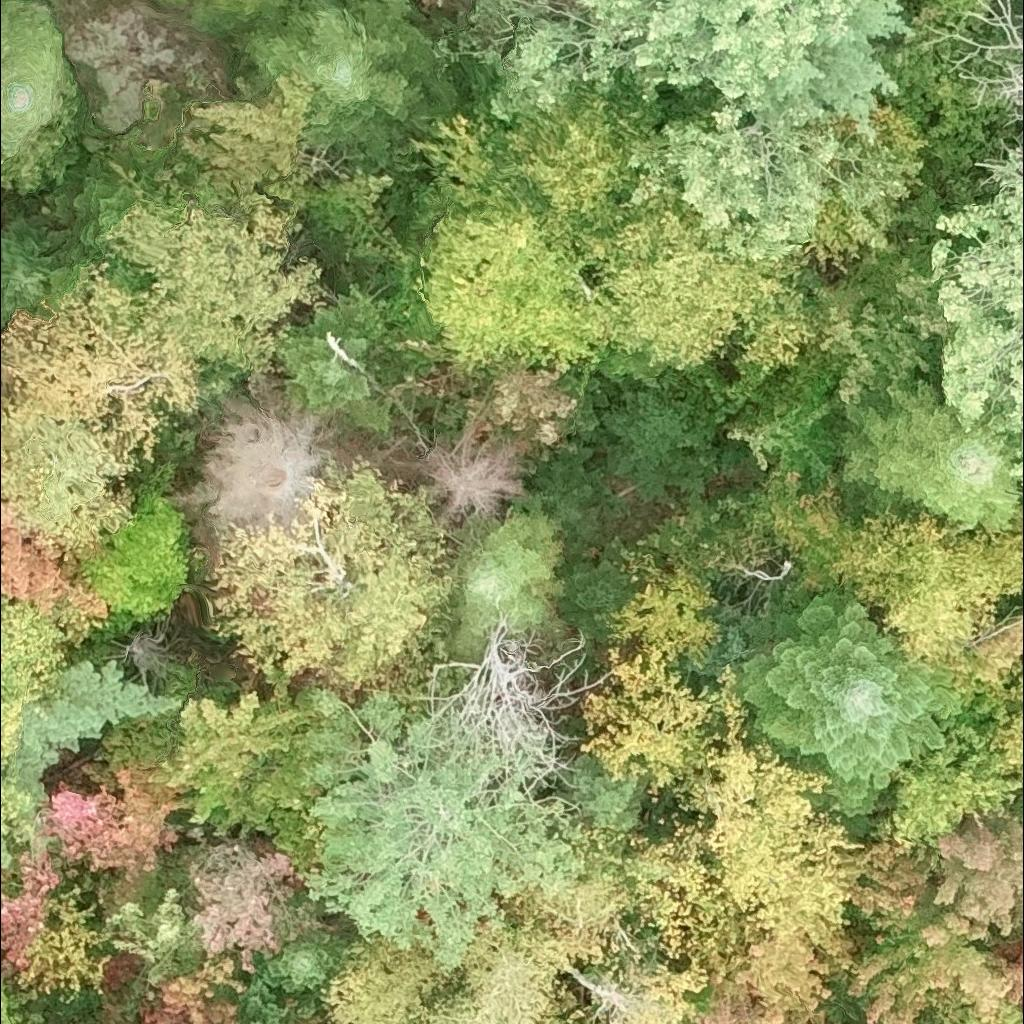crown: (437, 0, 921, 260), (409, 72, 682, 385), (301, 692, 581, 970), (676, 667, 873, 966), (594, 171, 826, 404), (214, 468, 452, 685), (744, 594, 959, 814), (107, 667, 333, 874), (98, 185, 325, 372), (30, 0, 267, 177), (0, 262, 199, 466), (847, 809, 1023, 1023), (575, 554, 722, 793), (246, 0, 444, 173), (426, 612, 594, 800), (827, 500, 1023, 661), (841, 384, 1023, 525), (13, 661, 184, 804), (809, 247, 952, 413), (333, 179, 445, 387), (628, 814, 766, 979), (933, 179, 1023, 428), (152, 67, 314, 202), (491, 824, 637, 969), (0, 403, 137, 553), (414, 910, 584, 1023), (873, 726, 1023, 854), (187, 841, 327, 978), (188, 401, 323, 535), (443, 511, 563, 657), (722, 349, 854, 480), (44, 756, 186, 874), (256, 159, 413, 263), (0, 597, 72, 816), (81, 491, 189, 632), (905, 610, 1023, 737), (746, 468, 858, 586), (0, 499, 109, 619), (319, 932, 461, 1023), (696, 929, 833, 1023), (22, 137, 117, 267), (282, 310, 390, 424), (71, 161, 193, 261), (0, 0, 75, 154), (17, 886, 112, 1003), (0, 838, 79, 977), (243, 929, 350, 1023), (422, 430, 526, 522), (0, 80, 84, 192), (585, 951, 713, 1023), (134, 950, 249, 1023), (465, 370, 575, 443), (0, 214, 64, 332), (807, 199, 897, 275), (573, 754, 647, 830), (469, 58, 514, 169), (165, 0, 293, 39), (989, 663, 1023, 780), (920, 987, 988, 1023), (0, 975, 40, 1023), (0, 788, 25, 852), (992, 1001, 1023, 1023), (1003, 940, 1023, 968), (1011, 444, 1023, 478), (293, 1018, 320, 1023), (230, 1021, 240, 1023), (1021, 815, 1023, 819)
